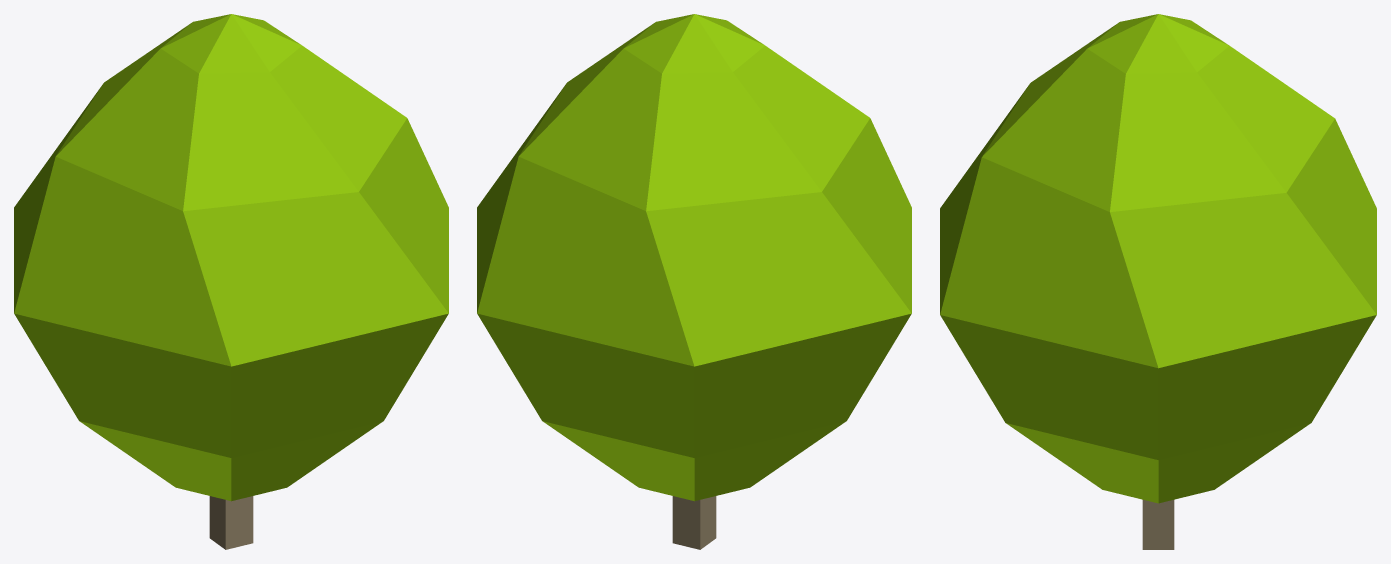
File: tree_spheric_6.fbx
3 views of the same model, side by side, from view 1: azimuth 30°, elevation 25°; view 2: azimuth 150°, elevation 25°; view 3: azimuth 270°, elevation 25° (orthographic).
Parts seen in each view (by area): view 1: tree_spheric_6; view 2: tree_spheric_6; view 3: tree_spheric_6.
Boxes of the visible parts, box(x1,y1,x2,y2) form: tree_spheric_6: box(14, 14, 448, 549); tree_spheric_6: box(477, 14, 911, 549); tree_spheric_6: box(940, 14, 1376, 549).
Bounding box in the file's own units: 194 × 225 × 168.
